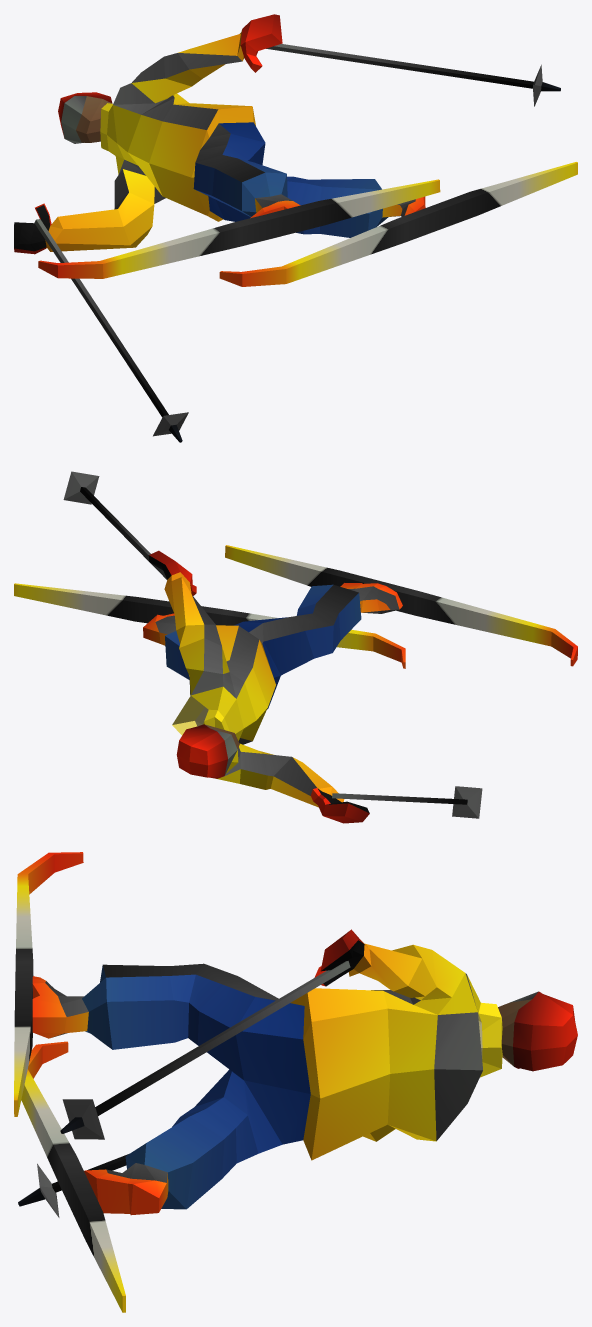
3 renders of one model, top to bottom at view 1: azimuth 30°, elevation 25°; view 2: azimuth 150°, elevation 25°; view 3: azimuth 270°, elevation 25°, orthographic. The views are drawn at different scales.
Visible parts, largest first — view 1: skier.002; view 2: skier.002; view 3: skier.002.
Part boxes in pixels (bbox=[...]): skier.002: bbox=[14, 14, 577, 442]; skier.002: bbox=[14, 471, 577, 823]; skier.002: bbox=[14, 852, 577, 1312].
Size of the model in its own units: 2.23 by 1.14 by 1.4.
1 material, 1 textured.
